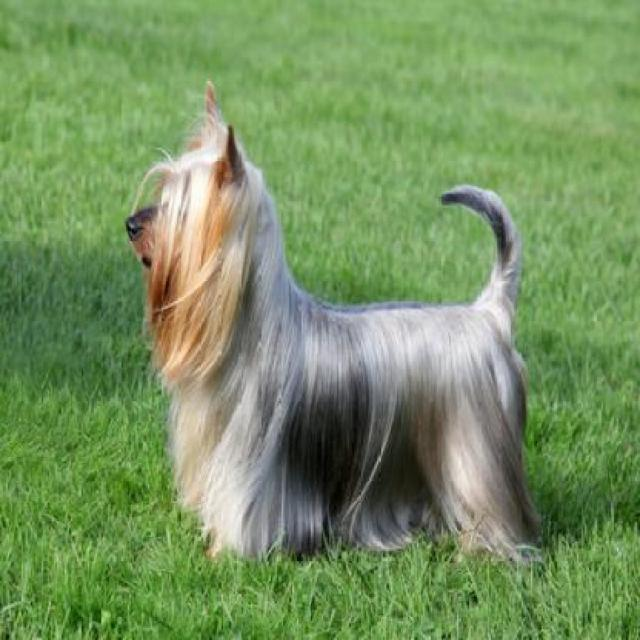animals: (122, 71, 558, 572)
